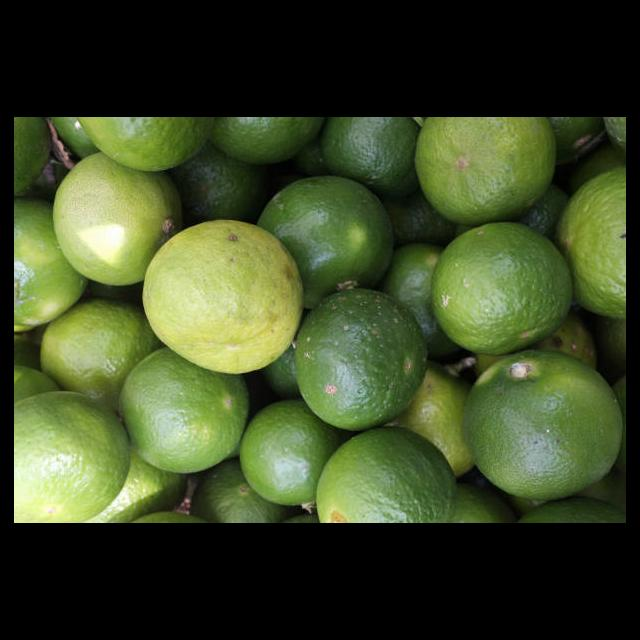lime: (142, 220, 303, 376), (463, 351, 624, 505), (293, 289, 429, 433)
